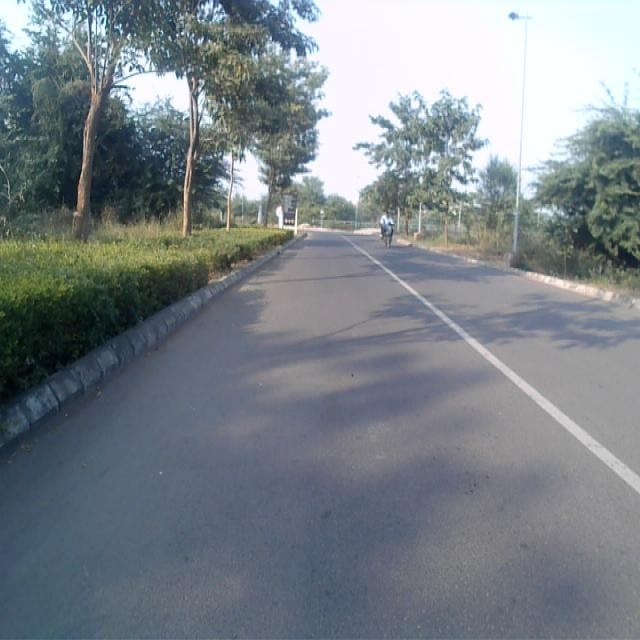lane: (0, 241, 640, 640)
